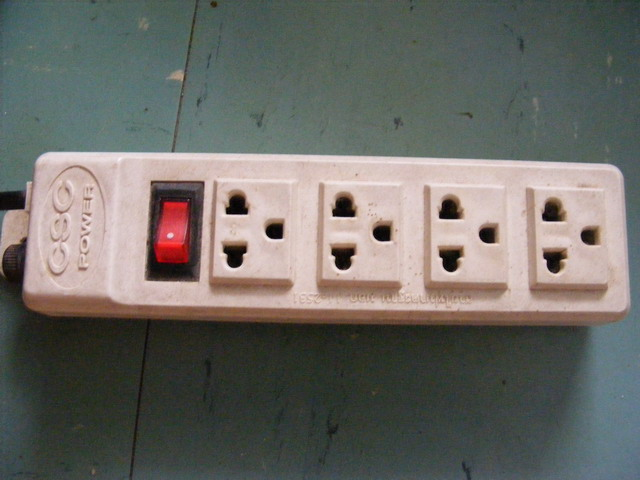Three_eye_plug: (14, 139, 635, 330)
